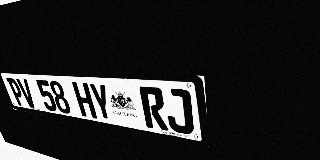5: (35, 80, 59, 112)
8: (48, 80, 72, 114)
H: (72, 82, 97, 119)
J: (163, 88, 194, 135)
P: (6, 78, 27, 107)
R: (139, 86, 169, 131)
V: (16, 78, 38, 109)
Y: (88, 83, 115, 122)
